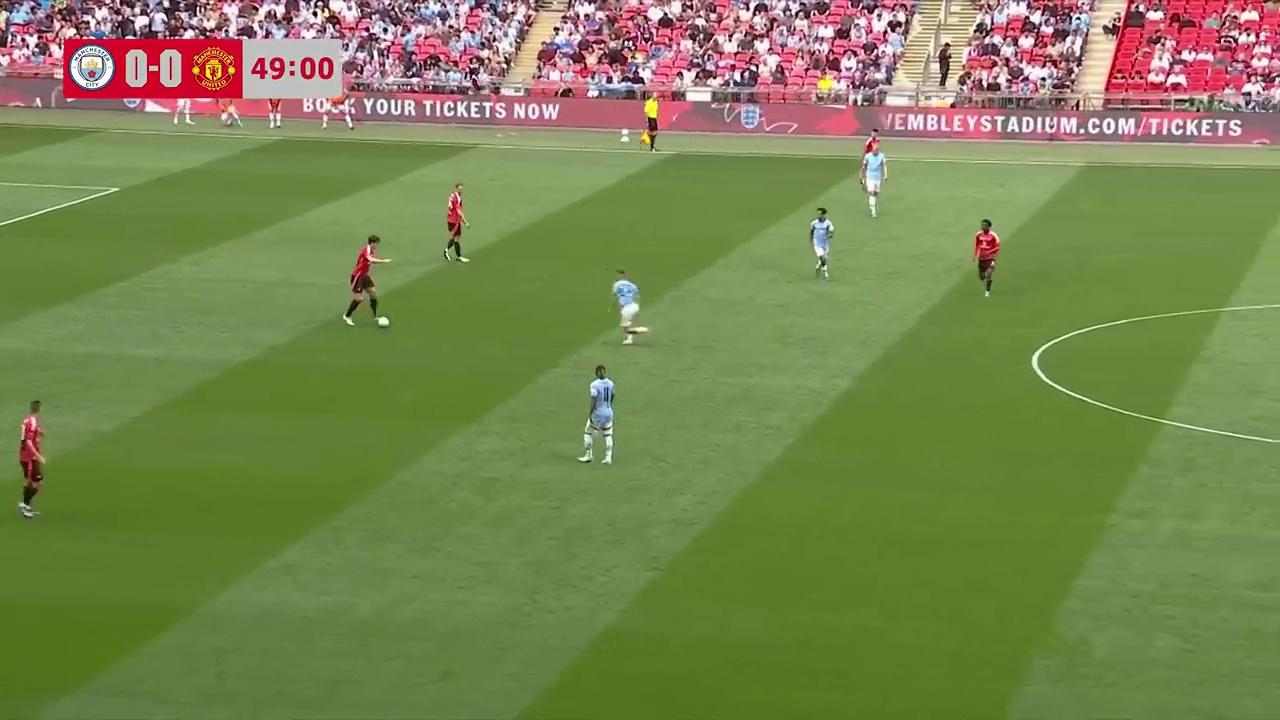ball: (376, 313, 390, 329)
player: (343, 234, 392, 326), (579, 364, 616, 465), (17, 399, 46, 518), (610, 269, 650, 345), (973, 218, 999, 297), (444, 184, 469, 262), (860, 146, 886, 218), (809, 207, 834, 280), (861, 132, 880, 182)
referee: (640, 101, 660, 152)
